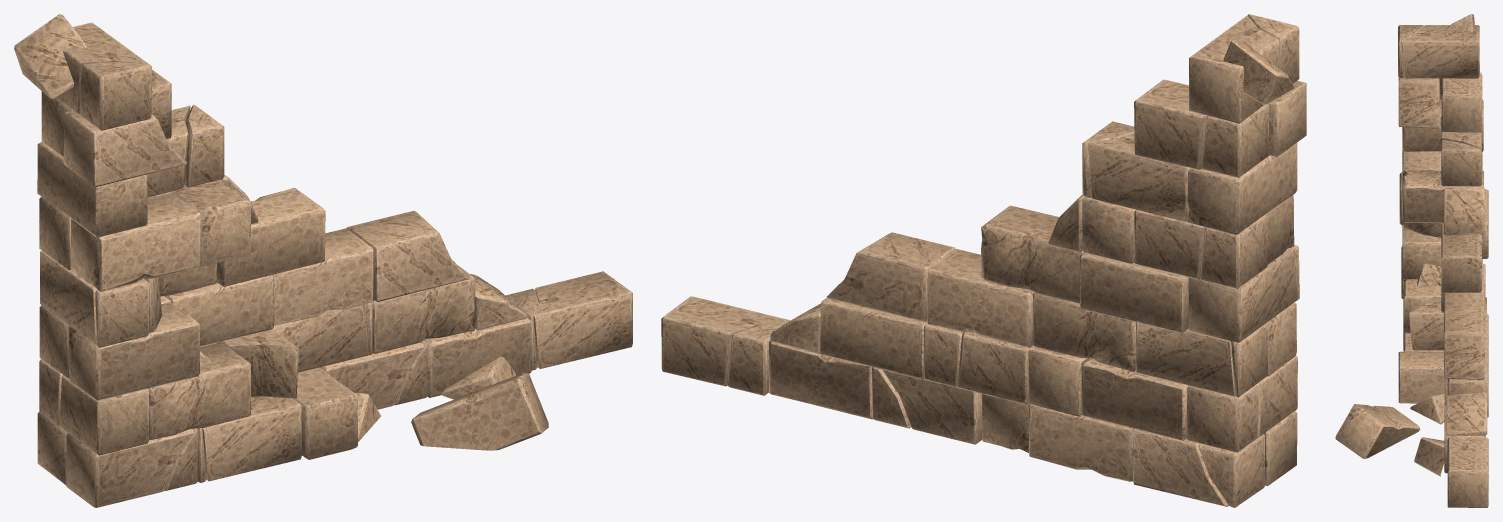
Rendered from stone_2.obj.
3 renders of one model, left to right at view 1: azimuth 30°, elevation 25°; view 2: azimuth 150°, elevation 25°; view 3: azimuth 270°, elevation 25°, orthographic. The views are drawn at different scales.
Parts seen in each view (by area): view 1: Box003_wire_028149177_0; view 2: Box003_wire_028149177_0; view 3: Box003_wire_028149177_0.
Boxes of the visible parts, left/top/right/bottom form: Box003_wire_028149177_0: left=14, top=14, right=632, bottom=507; Box003_wire_028149177_0: left=661, top=14, right=1306, bottom=507; Box003_wire_028149177_0: left=1335, top=14, right=1488, bottom=507.
Bounding box in the file's own units: 117 × 86.67 × 37.9.
